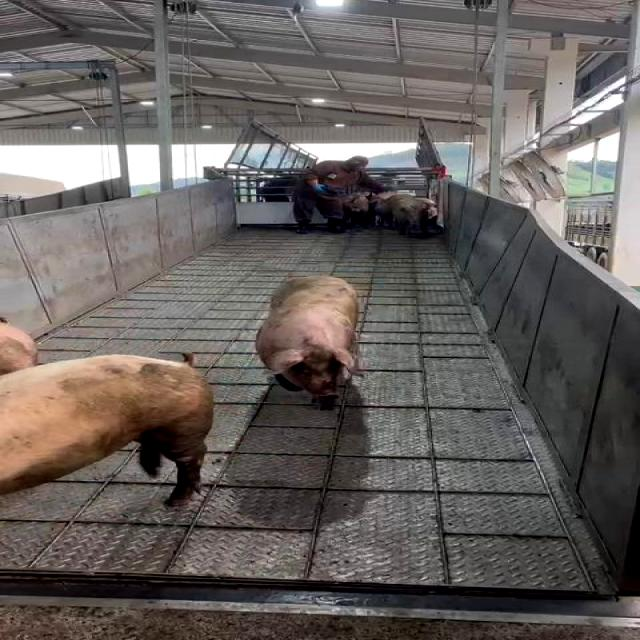pig: (0, 355, 213, 506), (257, 276, 362, 408)
